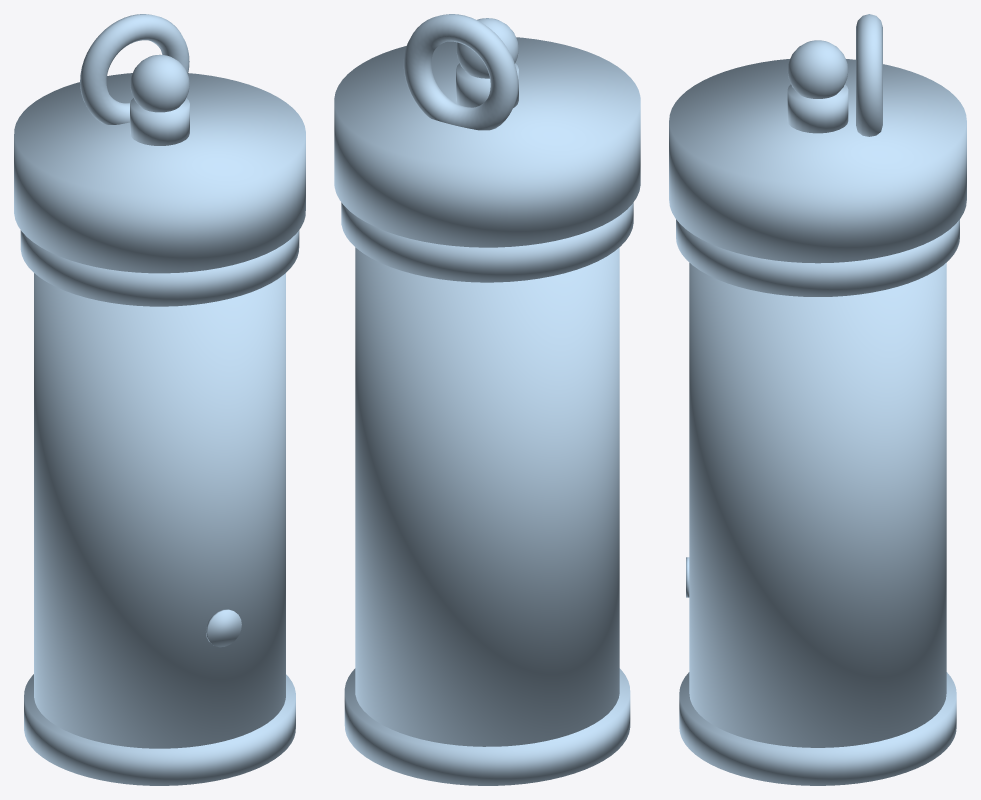
Rendered from bluewaterbottle.fbx.
3 renders of one model, left to right at view 1: azimuth 30°, elevation 25°; view 2: azimuth 150°, elevation 25°; view 3: azimuth 270°, elevation 25°, orthographic. The views are drawn at different scales.
Visible parts, largest first — view 1: NavyWaterBottle; view 2: NavyWaterBottle; view 3: NavyWaterBottle.
Boxes of the visible parts, box(x1,y1,x2,y2) form: NavyWaterBottle: box(14, 14, 305, 785); NavyWaterBottle: box(334, 14, 640, 785); NavyWaterBottle: box(669, 14, 966, 785).
Bounding box in the file's own units: 8.8 × 23.08 × 8.8.
